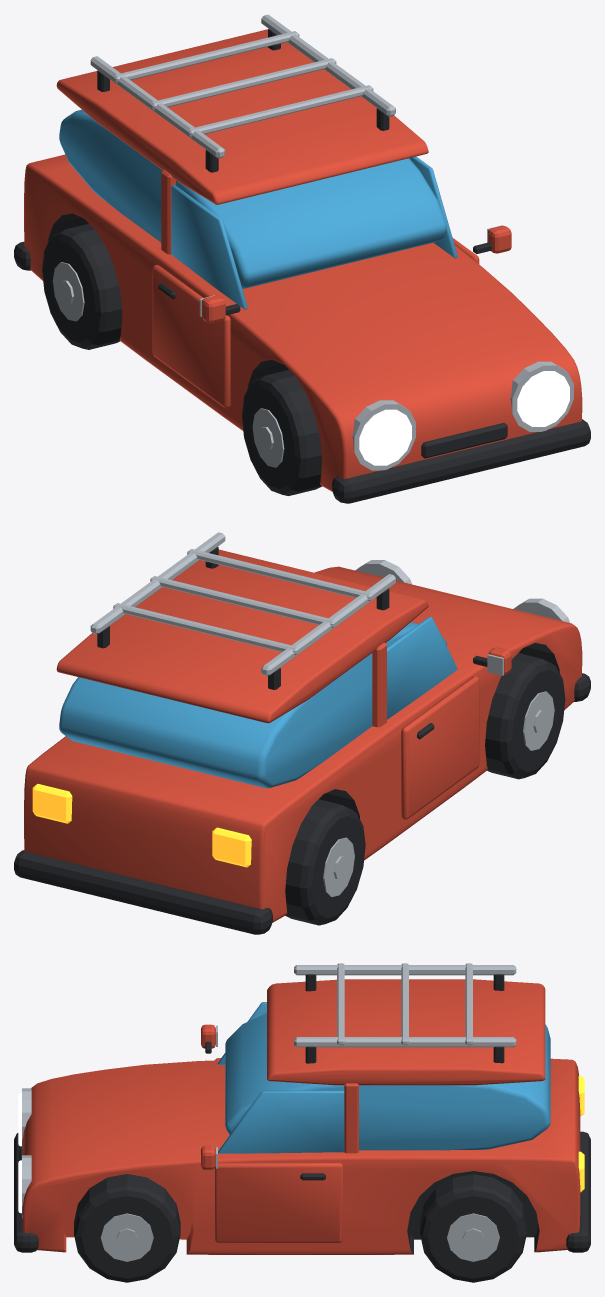
Rendered from low-poly-hatchback.glb.
The picture shows the model from 3 angles, top to bottom: view 1: azimuth 30°, elevation 25°; view 2: azimuth 150°, elevation 25°; view 3: azimuth 270°, elevation 25°; orthographic projection. The views are drawn at different scales.
Visible parts, largest first — view 1: Body, Roof, Cabin_Glass, Door_L, Bumper_Front, Wheel_FL, Wheel_RL, DoorWindow_L, Headlight_L, Headlight_R, RackRail_L, RackBar_0.9 (+10 smaller); view 2: Body, Roof, Cabin_Glass, Door_L, Bumper_Rear, Wheel_RL, Wheel_FL, DoorWindow_L, RackRail_L, RackBar_0.9, RackBar_2.4, RackBar_3.9 (+8 smaller); view 3: Body, Roof, Cabin_Glass, Door_R, Wheel_FR, Wheel_RR, DoorWindow_R, RackRail_R, RackRail_L, Hub_FR, Hub_RR, Bumper_Rear (+5 smaller).
Part boxes in pixels (x1,y1,x2,y2): Body: [24, 154, 582, 491]; Roof: [56, 29, 428, 204]; Cabin_Glass: [59, 109, 446, 288]; Door_L: [152, 265, 230, 408]; Bumper_Front: [332, 419, 590, 503]; Wheel_FL: [242, 370, 322, 495]; Wheel_RL: [42, 223, 122, 349]; DoorWindow_L: [171, 184, 247, 309]; Headlight_L: [359, 409, 411, 465]; Headlight_R: [517, 371, 569, 426]; RackRail_L: [90, 56, 225, 158]; RackBar_0.9: [187, 85, 373, 137]; Body: [24, 566, 582, 922]; Roof: [56, 549, 428, 723]; Cabin_Glass: [59, 622, 446, 788]; Door_L: [401, 676, 479, 819]; Bumper_Rear: [14, 850, 272, 934]; Wheel_RL: [285, 799, 365, 925]; Wheel_FL: [485, 653, 565, 779]; DoorWindow_L: [387, 616, 457, 719]; RackRail_L: [261, 574, 395, 676]; RackBar_0.9: [187, 549, 373, 600]; RackBar_2.4: [150, 576, 336, 627]; RackBar_3.9: [113, 603, 299, 655]; Body: [22, 1058, 580, 1254]; Roof: [267, 979, 545, 1085]; Cabin_Glass: [225, 1013, 550, 1150]; Door_R: [215, 1163, 342, 1242]; Wheel_FR: [74, 1174, 180, 1282]; Wheel_RR: [420, 1174, 526, 1282]; DoorWindow_R: [218, 1090, 344, 1153]; RackRail_R: [294, 1037, 516, 1047]; RackRail_L: [294, 965, 516, 975]; Hub_FR: [100, 1213, 153, 1261]; Hub_RR: [447, 1213, 499, 1261]; Bumper_Rear: [566, 1131, 590, 1252].
Size of the model in its own units: 7.15 by 5.88 by 13.5.
